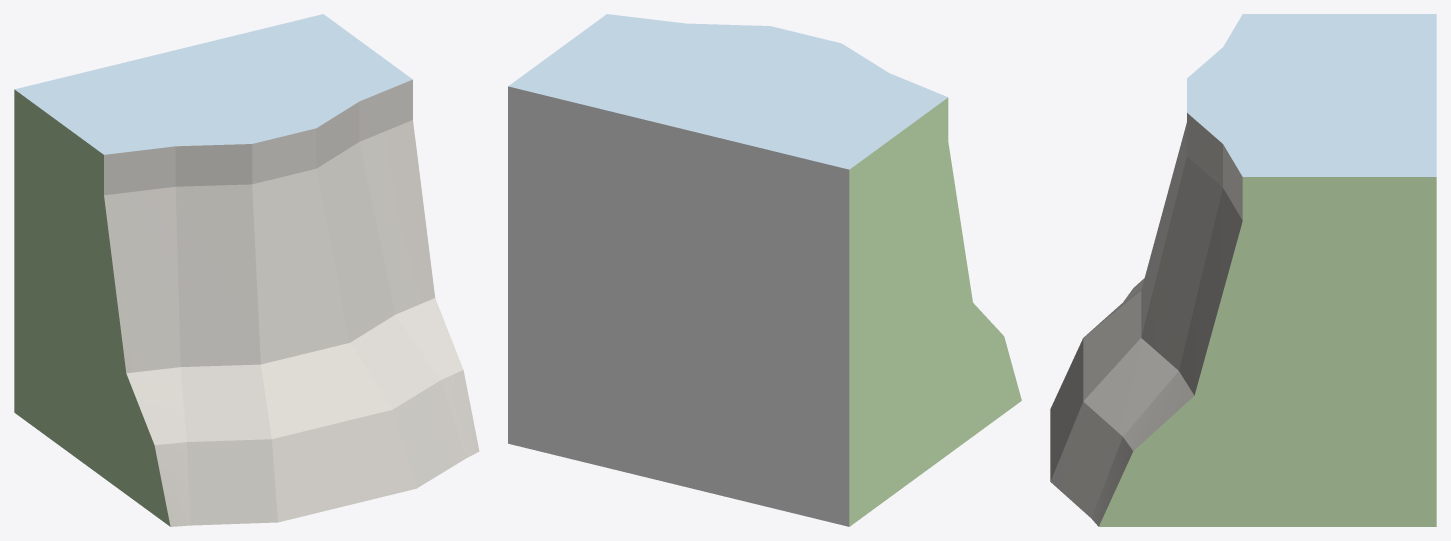
Rendered from Wall_Straight_Deformed_Convex_2x2_Base.glb.
The picture shows the model from 3 angles, left to right: view 1: azimuth 30°, elevation 25°; view 2: azimuth 150°, elevation 25°; view 3: azimuth 270°, elevation 25°; orthographic projection. The views are drawn at different scales.
Visible parts, largest first — view 1: Wall_Straight_Deformed_Convex_2x2_Base; view 2: Wall_Straight_Deformed_Convex_2x2_Base; view 3: Wall_Straight_Deformed_Convex_2x2_Base.
Boxes of the visible parts, left/top/right/bottom form: Wall_Straight_Deformed_Convex_2x2_Base: left=14, top=14, right=479, bottom=526; Wall_Straight_Deformed_Convex_2x2_Base: left=508, top=14, right=1021, bottom=526; Wall_Straight_Deformed_Convex_2x2_Base: left=1050, top=14, right=1436, bottom=526.
Size of the model in its own units: 200 by 200 by 200.
